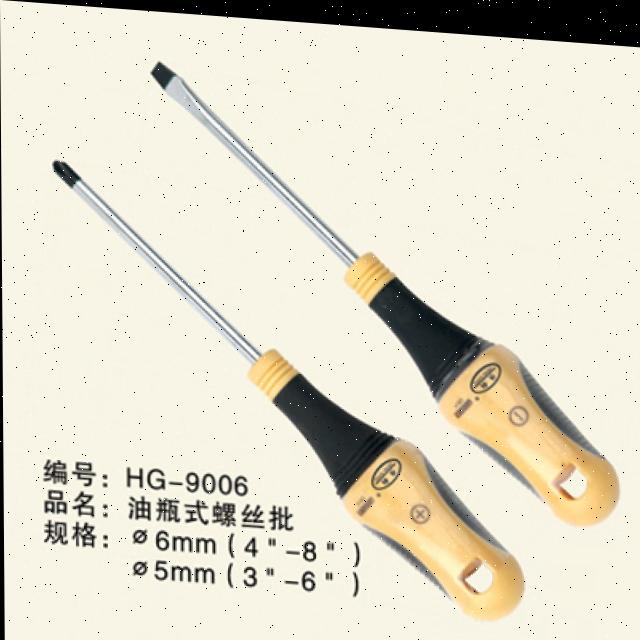Screwdriver: (53, 161, 523, 613), (153, 61, 619, 516)
